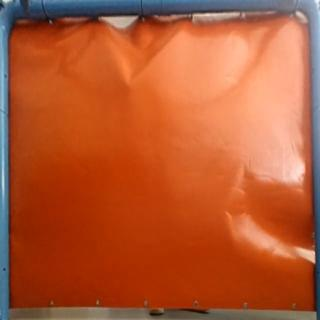Hit-hRxx: (124, 75, 134, 92)
